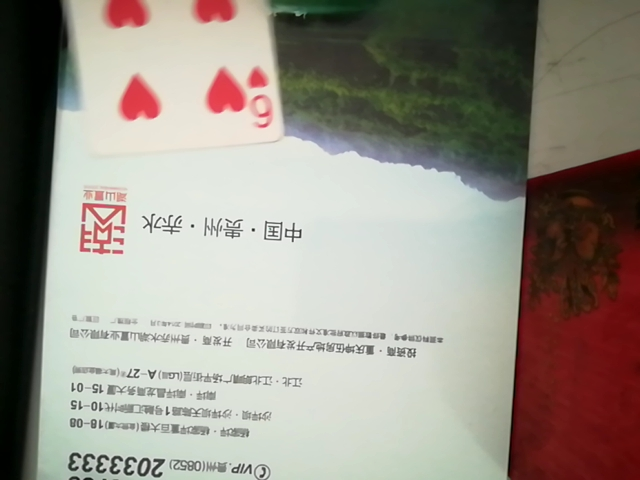hx 6: (60, 0, 282, 144)
